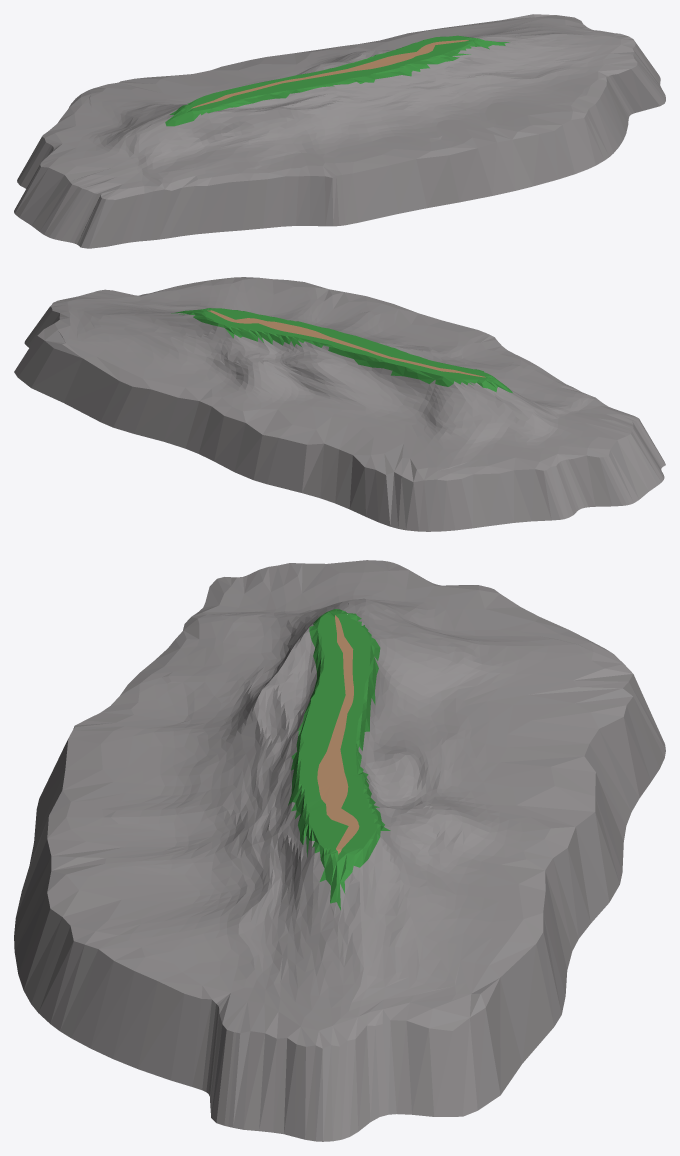
Rendered from landscape.1.fbx.
3 renders of one model, top to bottom at view 1: azimuth 30°, elevation 25°; view 2: azimuth 150°, elevation 25°; view 3: azimuth 270°, elevation 25°, orthographic. The views are drawn at different scales.
Visible parts, largest first — view 1: dirt, stone, Landscape_3, Landscape_4, Landscape_2; view 2: dirt, stone, Landscape_3, Landscape_4, Landscape_2; view 3: dirt, stone, Landscape_3, Landscape_4, Landscape_2.
Boxes of the visible parts, x1,y1,x2,y2 form: dirt: (55, 17, 620, 189); stone: (14, 14, 665, 248); Landscape_3: (185, 36, 476, 112); Landscape_4: (165, 35, 509, 126); Landscape_2: (191, 40, 468, 108); dirt: (58, 279, 618, 473); stone: (14, 277, 665, 531); Landscape_3: (200, 308, 495, 379); Landscape_4: (171, 308, 512, 392); Landscape_2: (207, 310, 485, 377); dirt: (53, 571, 604, 1030); stone: (14, 560, 665, 1141); Landscape_3: (299, 611, 377, 861); Landscape_4: (288, 609, 390, 910); Landscape_2: (317, 615, 359, 854).
Bounding box in the file's own units: 4408 × 548 × 2284.
